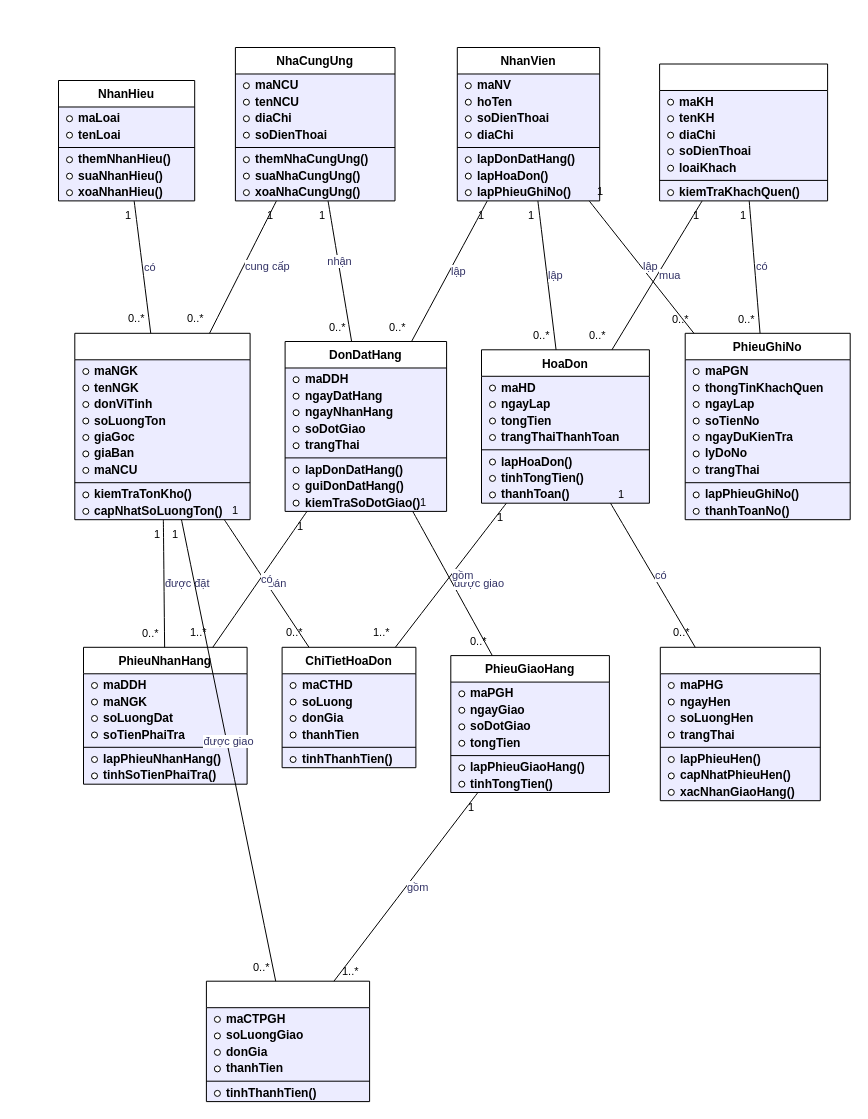
Some shapes in this 868 by 1119 pixel diagram are drawn without their labels. The box of each missing label's shape, as (x1, y1, x2, y2) in pixels:
ChiTietPhieuGiaoHang: (205, 980, 370, 1102)
KhachHang: (659, 63, 828, 201)
NuocGiaiKhat: (74, 332, 250, 520)
PhieuHenGiaoHang: (659, 646, 820, 801)
